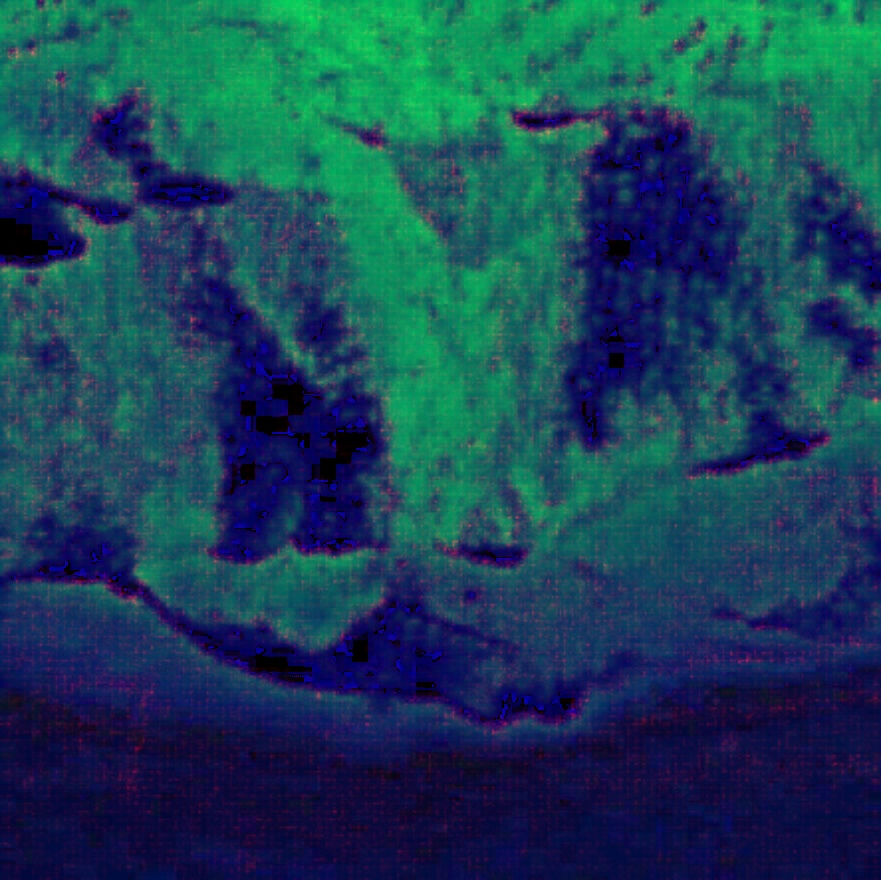rip_current: (286, 106, 587, 603)
